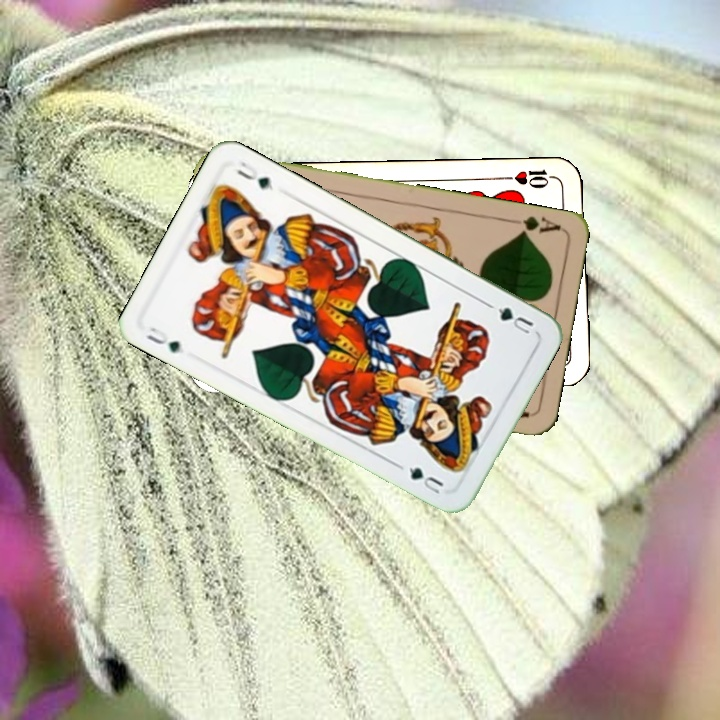GA: (504, 211, 564, 238)
GU: (484, 299, 536, 337), (141, 323, 183, 356)
H10: (500, 165, 560, 191)
